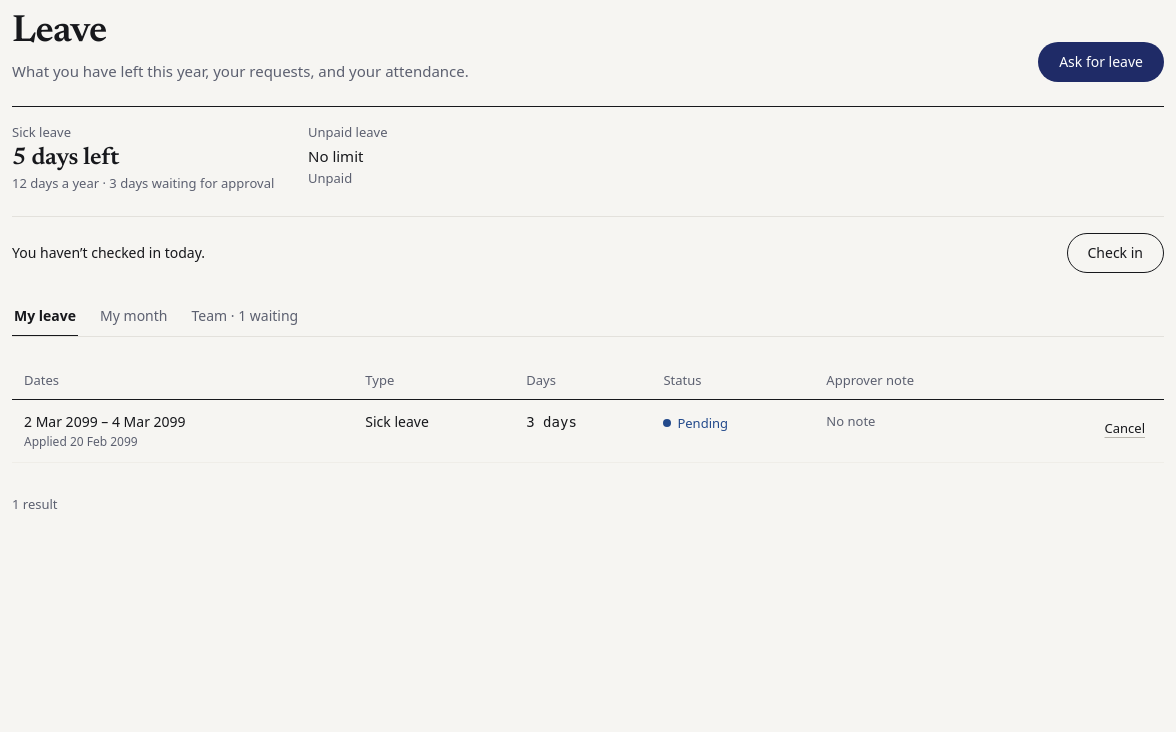
Test: Leave › shows approvers who’s off and what’s waiting
Press the mouse on the tab "Team · 1 waiting" at (245,317), box [190, 297, 300, 337]
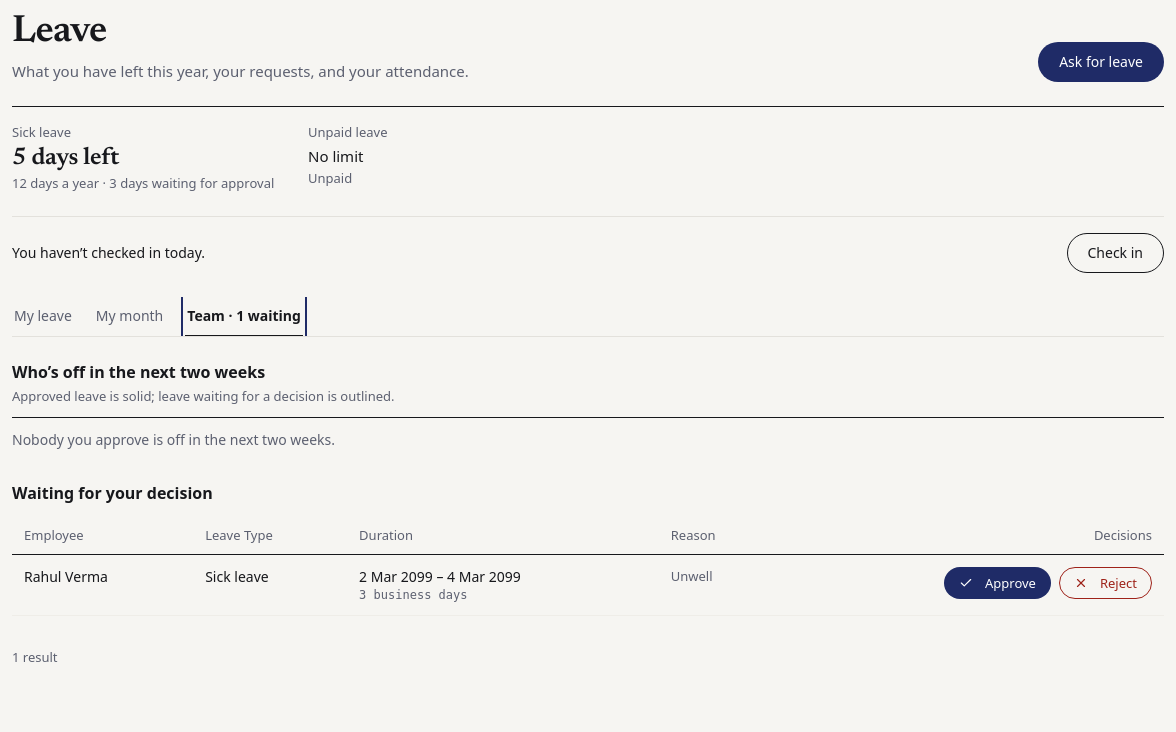
Now the heading "Who’s off in the next two weeks" is shown, box [12, 361, 265, 383]
Now the text "Rahul Verma" is shown, box [24, 567, 108, 586]
